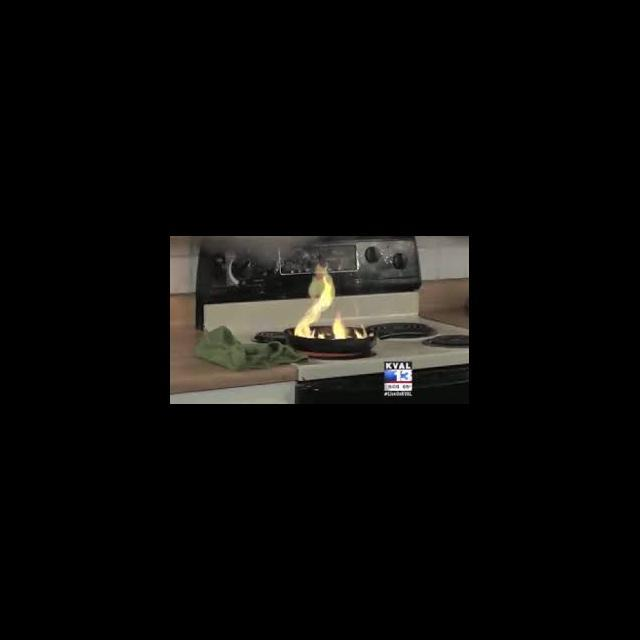Fire: (296, 255, 372, 342)
